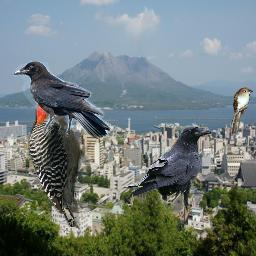Crow: (123, 126, 212, 212), (13, 61, 111, 139)
Cuckoo: (230, 87, 253, 134)
Woodpecker: (27, 84, 91, 227)
